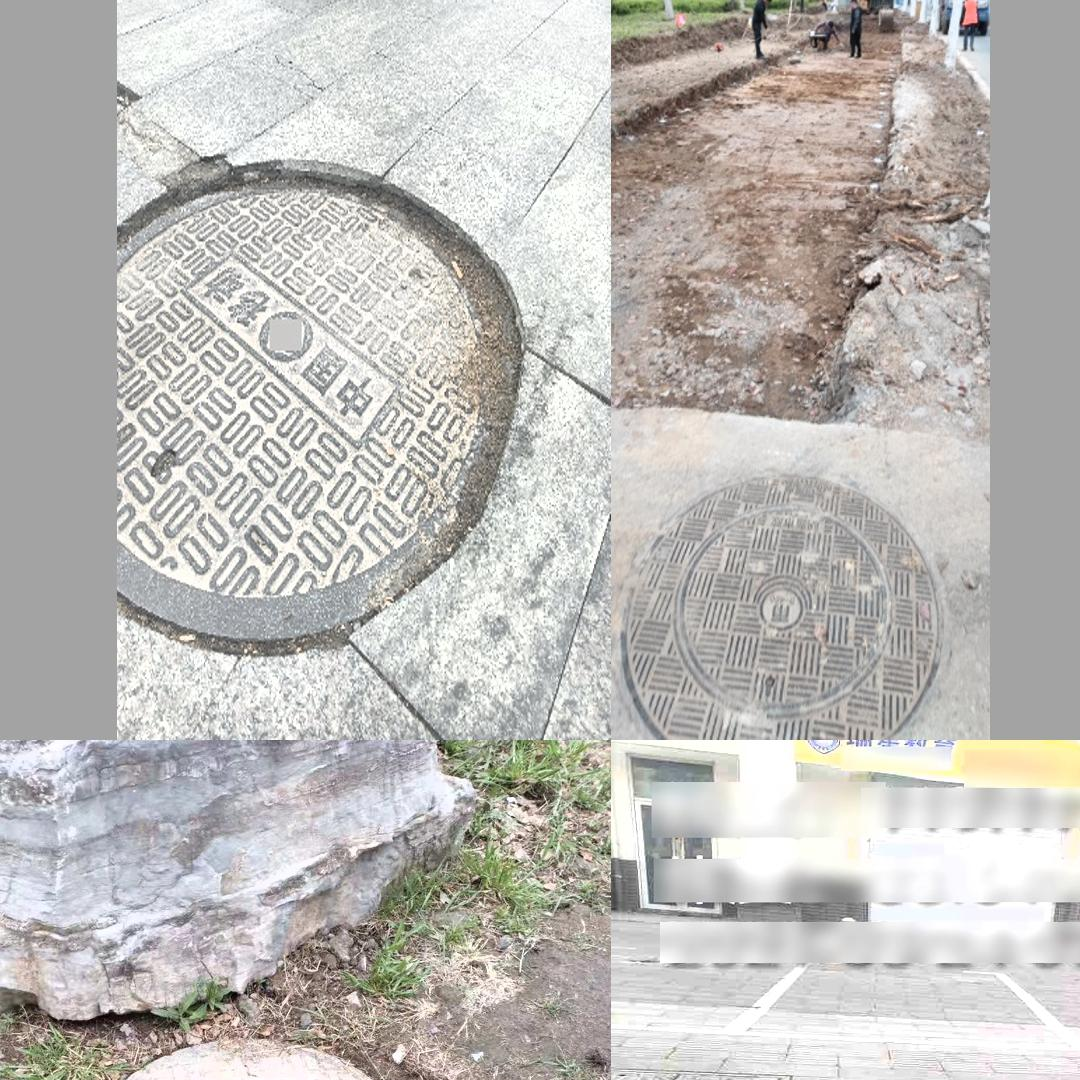good: (119, 178, 497, 647), (621, 460, 956, 740), (88, 1038, 419, 1080), (613, 1068, 792, 1080)
